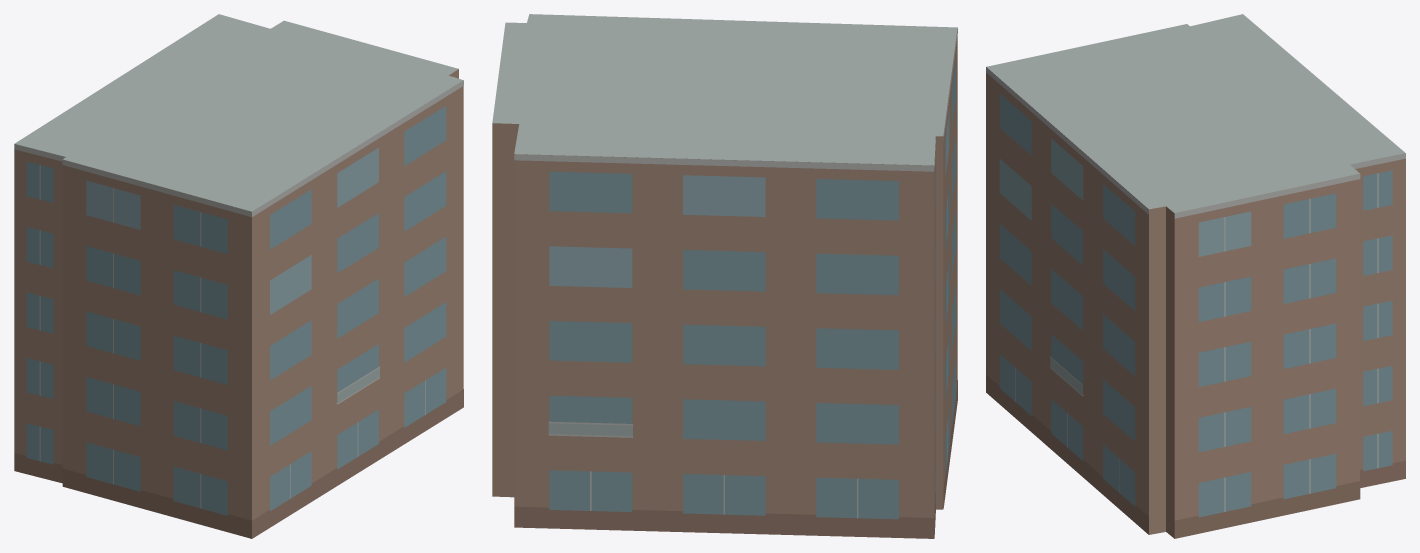
The model's file is survey-upis-32978067.glb.
3 renders of one model, left to right at view 1: azimuth 30°, elevation 25°; view 2: azimuth 150°, elevation 25°; view 3: azimuth 270°, elevation 25°, orthographic. The views are drawn at different scales.
Parts seen in each view (by area): view 1: survey-upis-32978067.tmp; view 2: survey-upis-32978067.tmp; view 3: survey-upis-32978067.tmp.
Part boxes in pixels (<box>): survey-upis-32978067.tmp: <box>14,14,463,538</box>; survey-upis-32978067.tmp: <box>492,14,957,538</box>; survey-upis-32978067.tmp: <box>986,14,1405,538</box>.
Bounding box in the file's own units: 19.04 × 14.5 × 16.95.
